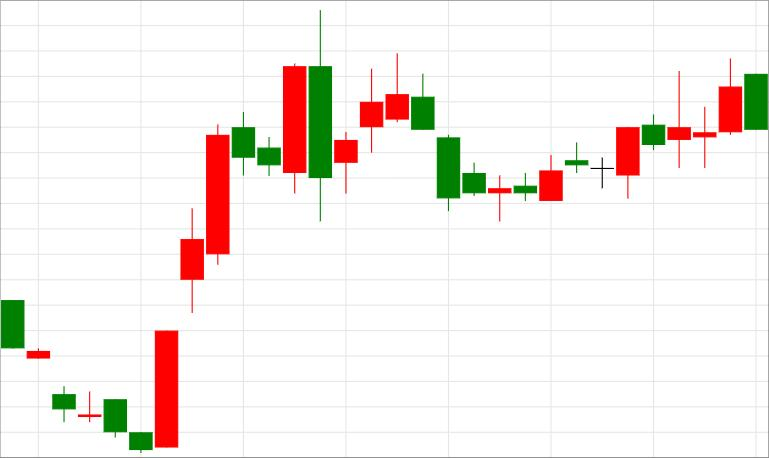bearish_engulfing_fall: (154, 9, 331, 447)
